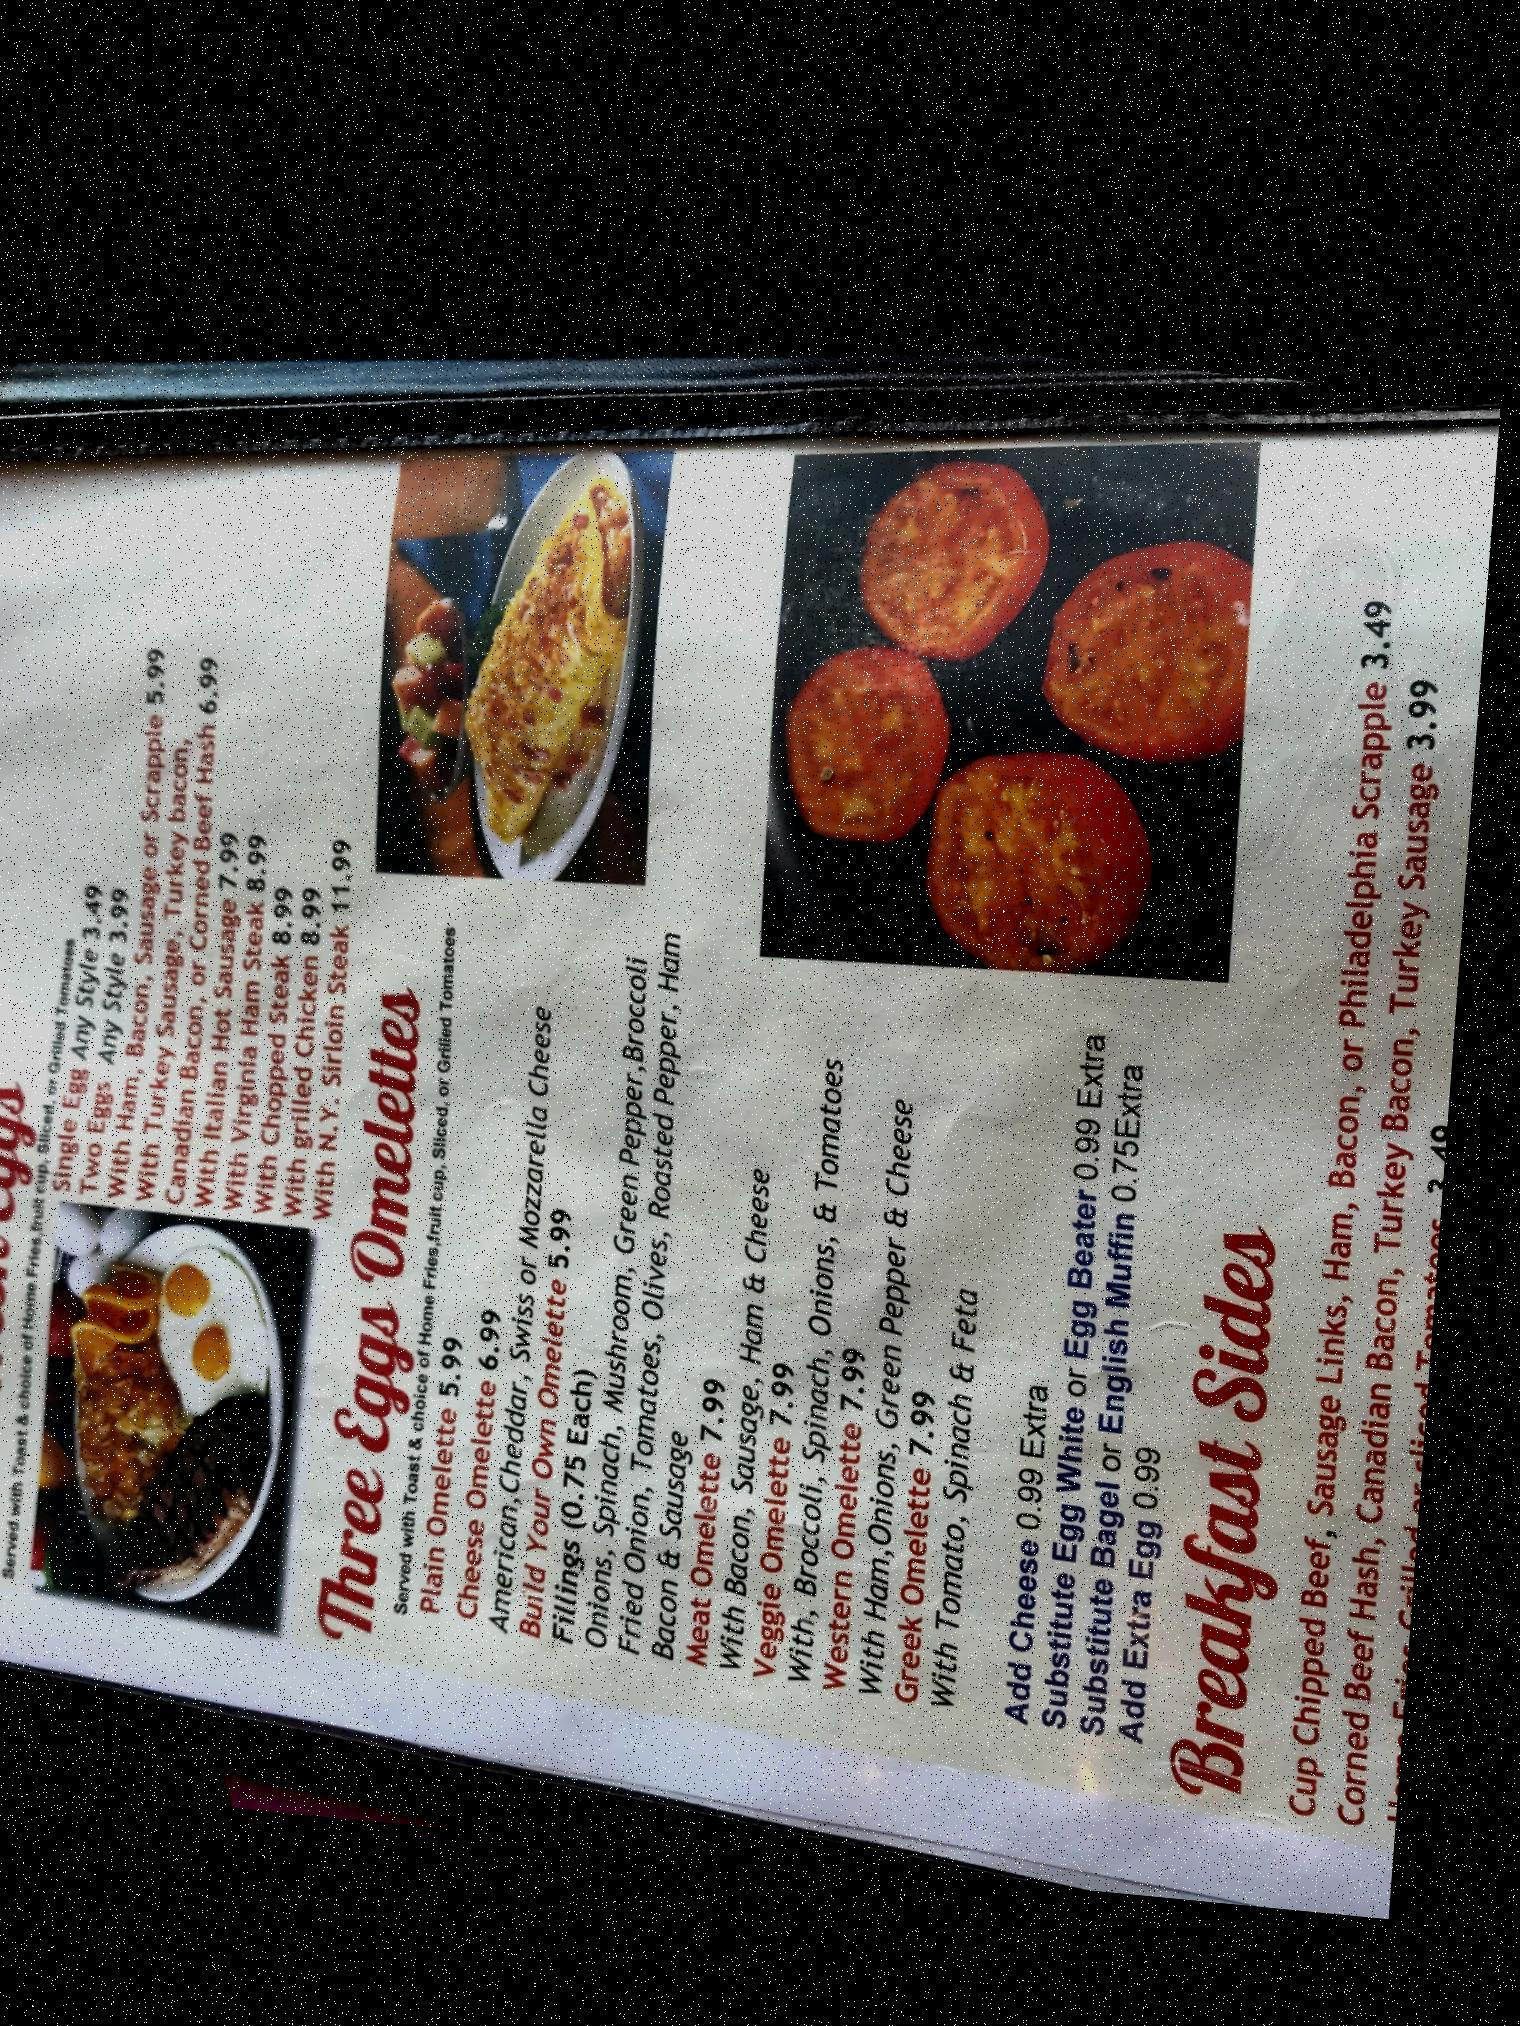Menu-Items: (128, 607, 383, 1212), (575, 896, 738, 1643), (770, 1020, 877, 1681), (509, 977, 608, 1640), (845, 1036, 945, 1681), (703, 1119, 800, 1659), (913, 1244, 1007, 1691), (473, 1288, 525, 1614), (434, 1316, 485, 1608), (96, 876, 141, 1194), (72, 873, 112, 1193), (0, 726, 6, 1561)
